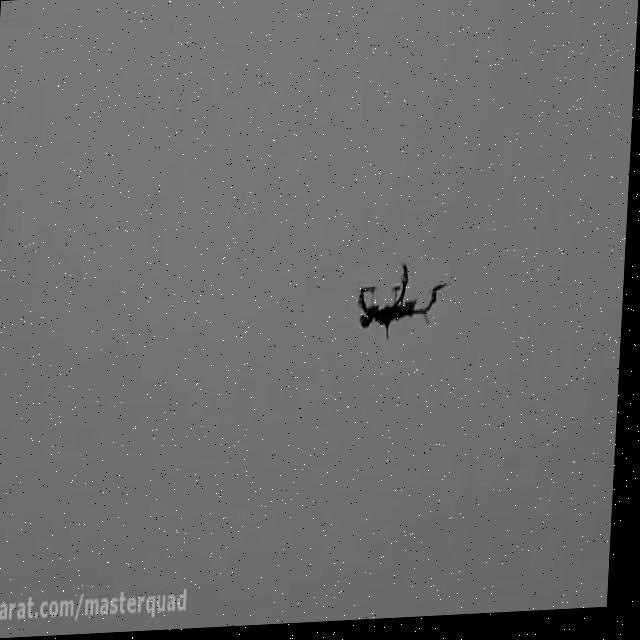drone: (354, 254, 460, 347)
